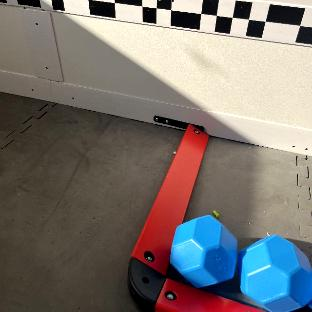Parking-R: (128, 125, 208, 308)
V5_BLUE: (240, 236, 312, 312), (172, 215, 237, 286)
